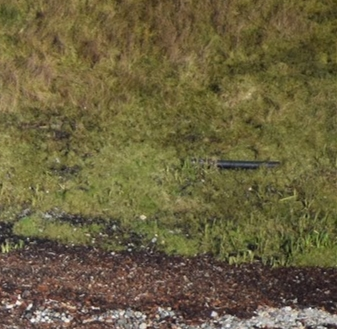straight_bar: (188, 148, 286, 179)
